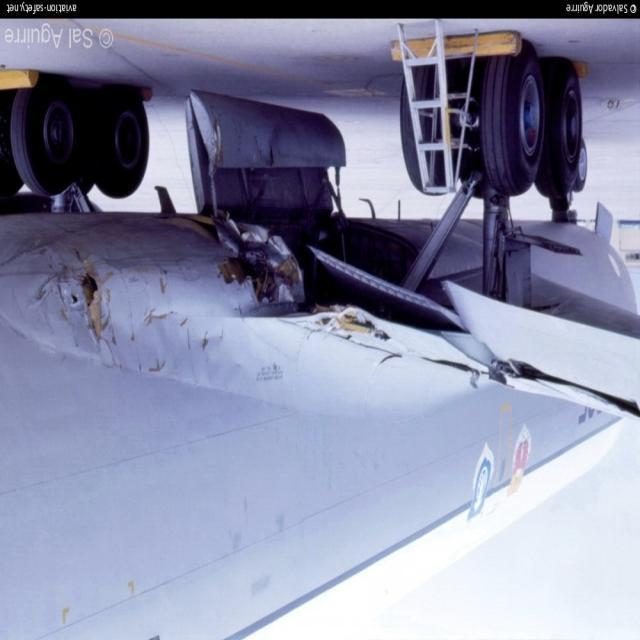crack: (75, 245, 106, 345)
dent: (129, 324, 255, 387)
